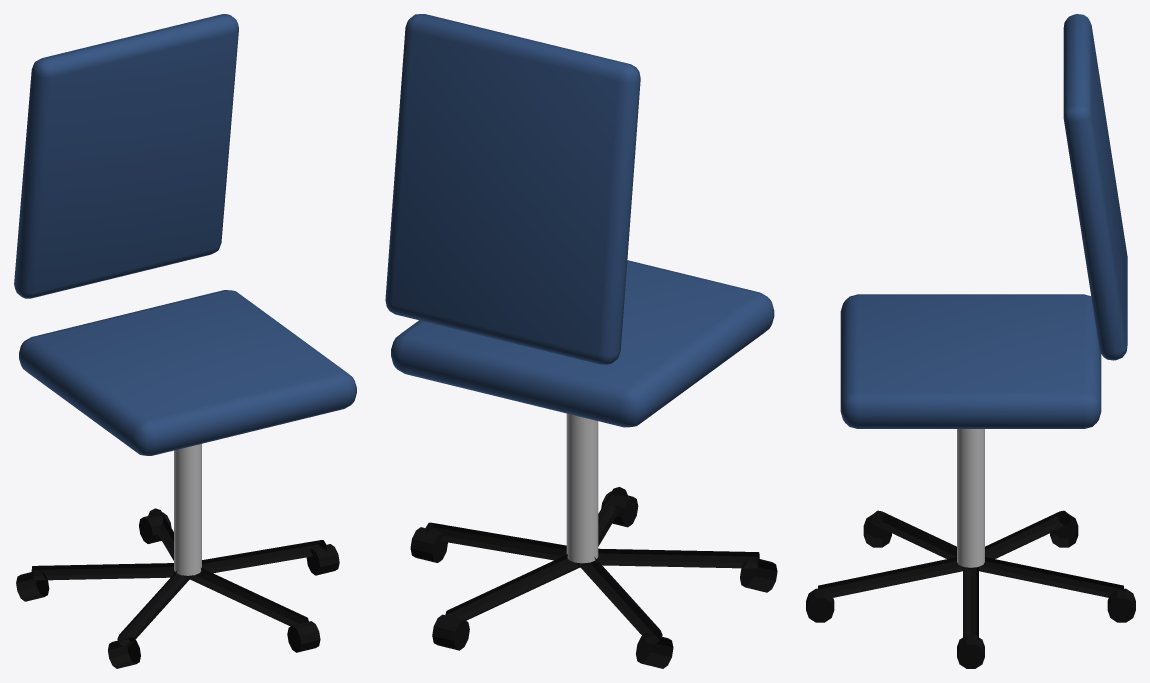
Rendered from furniture.seat.task_chair.glb.
3 views of the same model, side by side, from view 1: azimuth 30°, elevation 25°; view 2: azimuth 150°, elevation 25°; view 3: azimuth 270°, elevation 25° (orthographic). The views are drawn at different scales.
Parts seen in each view (by area): view 1: main__fabric_blue, main__plastic_black, main__steel_stainless; view 2: main__fabric_blue, main__plastic_black, main__steel_stainless; view 3: main__fabric_blue, main__plastic_black, main__steel_stainless.
Part boxes in pixels (x1,y1,x2,y2): main__fabric_blue: [14, 14, 356, 455]; main__plastic_black: [16, 508, 339, 668]; main__steel_stainless: [174, 444, 201, 575]; main__fabric_blue: [385, 14, 774, 427]; main__plastic_black: [410, 487, 777, 668]; main__steel_stainless: [566, 413, 598, 563]; main__fabric_blue: [840, 14, 1127, 428]; main__plastic_black: [806, 510, 1135, 668]; main__steel_stainless: [957, 429, 984, 567].
Size of the model in its own units: 0.5465 by 1.05 by 0.5826.
